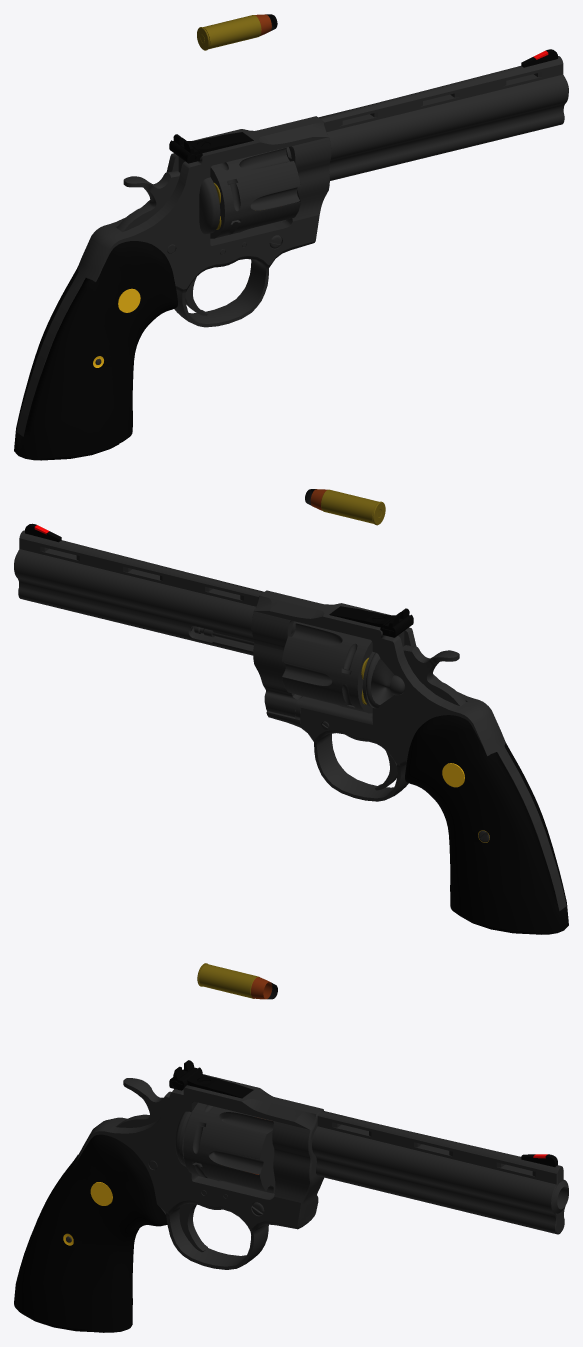
File: REVOLVER.obj
3 views of the same model, one above another, from view 1: azimuth 30°, elevation 25°; view 2: azimuth 150°, elevation 25°; view 3: azimuth 330°, elevation 25° (orthographic).
Parts seen in each view (by area): view 1: Trigger_Cube.007; view 2: Trigger_Cube.007; view 3: Trigger_Cube.007.
Boxes of the visible parts, x1,y1,x2,y2 form: Trigger_Cube.007: (14,14,568,460); Trigger_Cube.007: (14,489,568,934); Trigger_Cube.007: (14,963,568,1332).
Bounding box in the file's own units: 4.22 × 2.84 × 0.5635.
